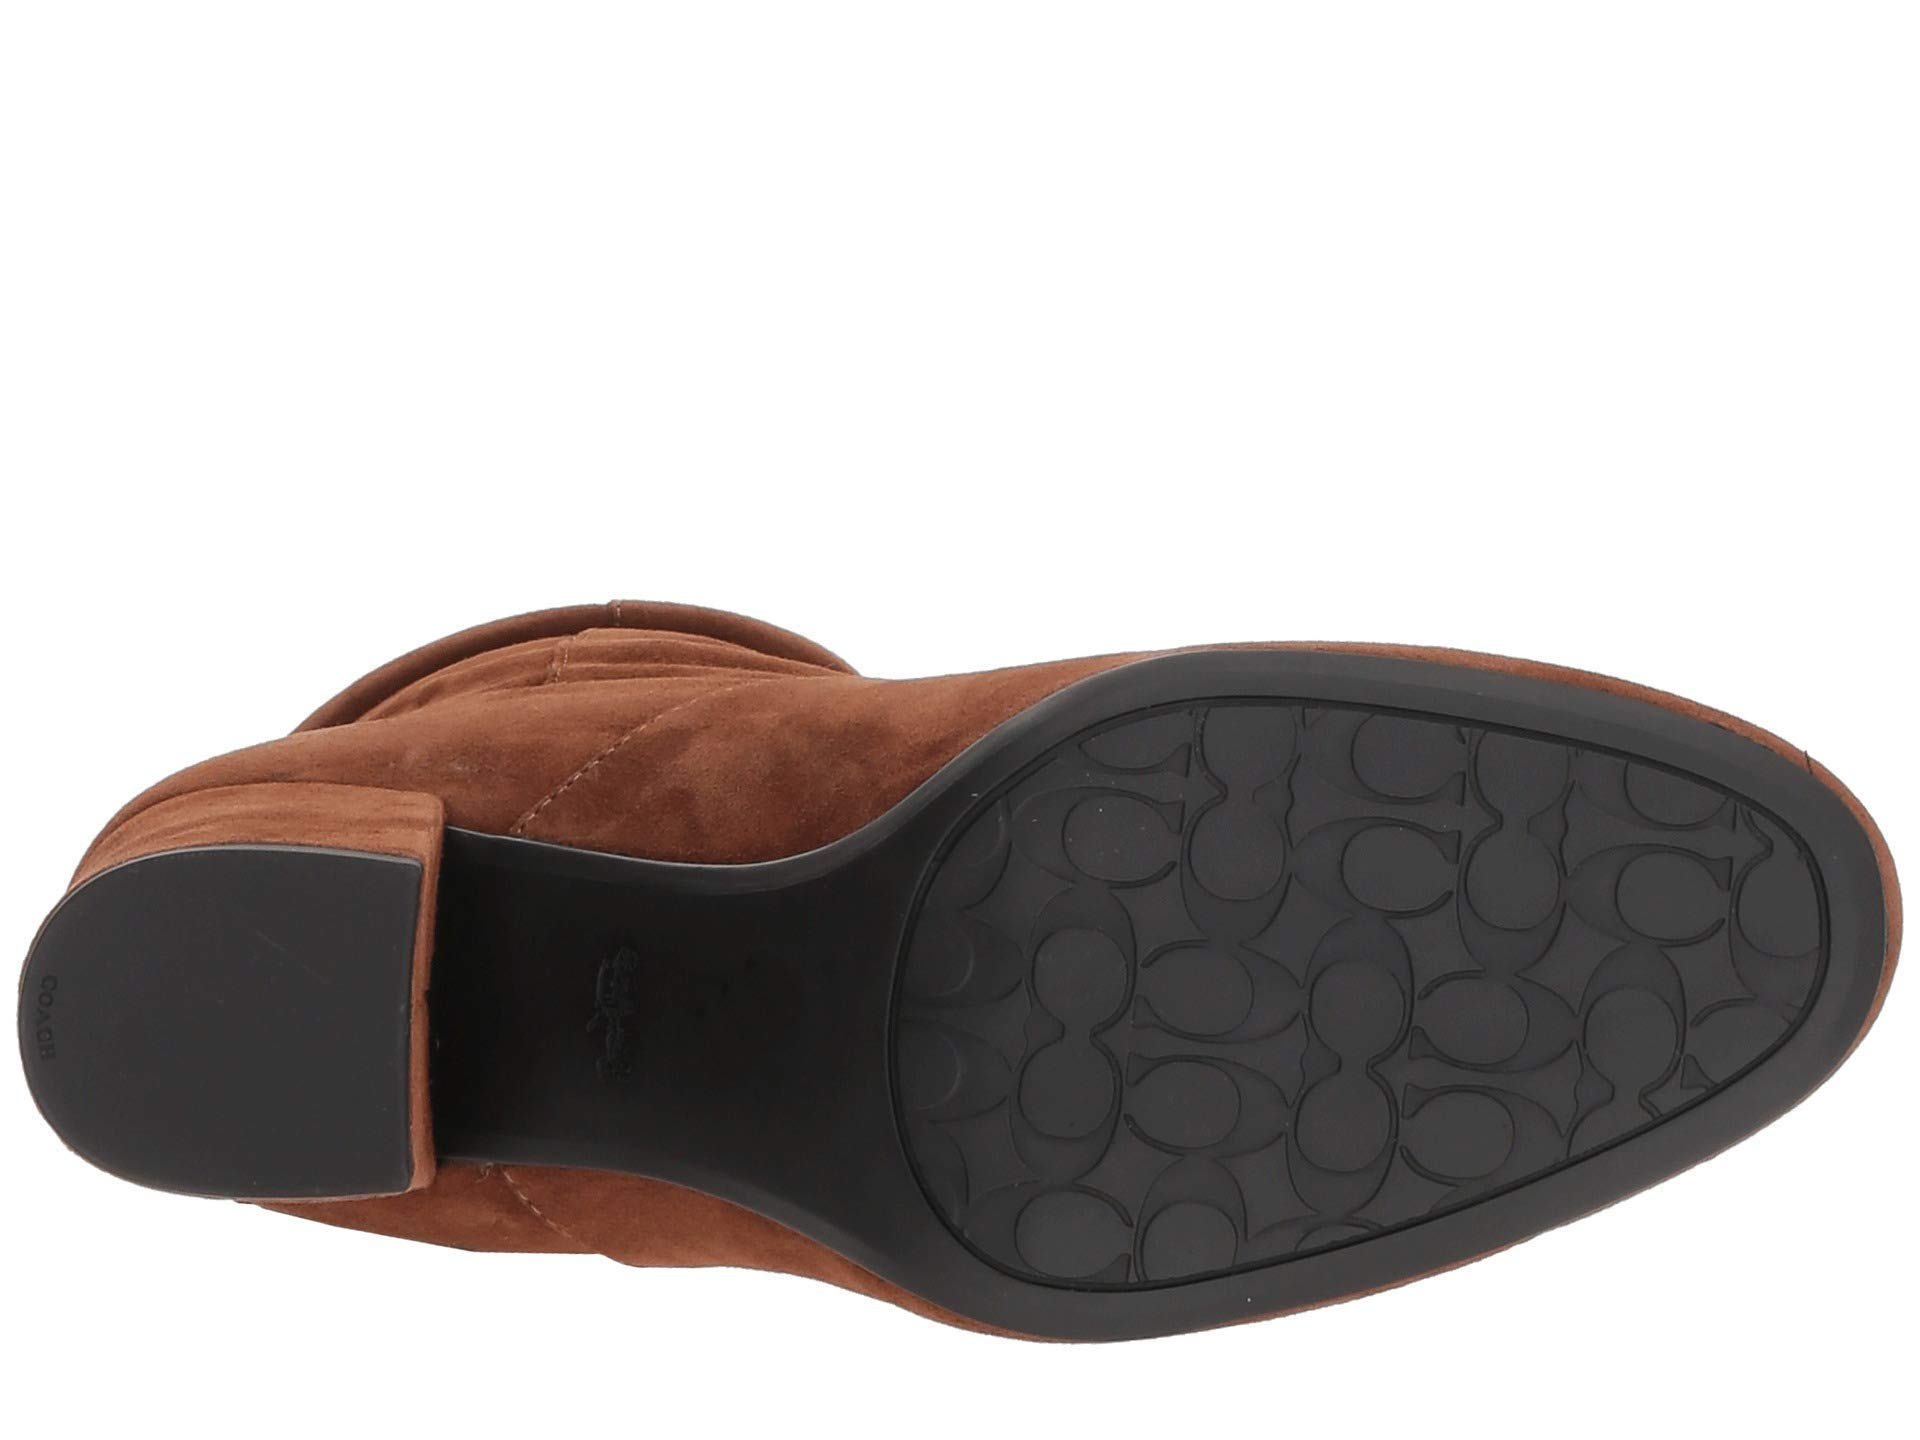bowtie: (1265, 902, 1432, 1224)
text: (1559, 833, 1743, 957), (32, 970, 63, 1063)
